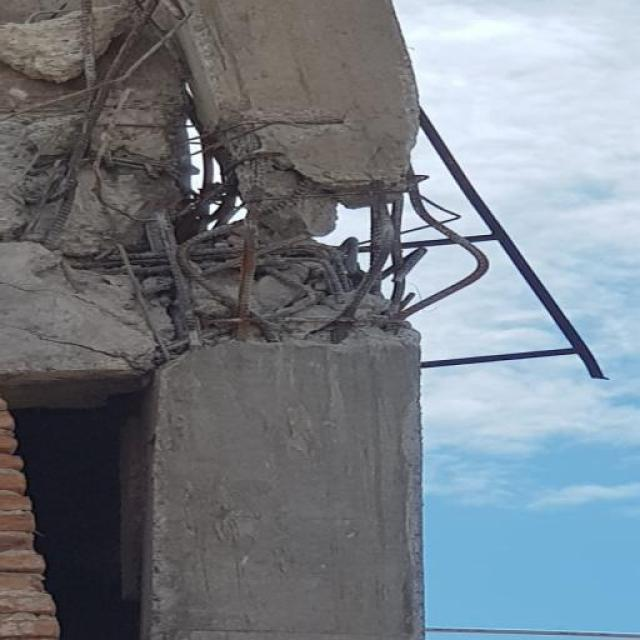D0w0: (81, 120, 485, 359)
